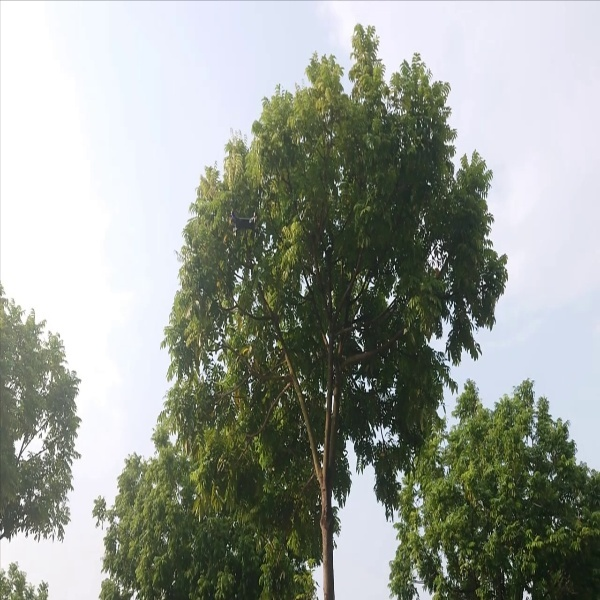drone: (223, 201, 265, 241)
